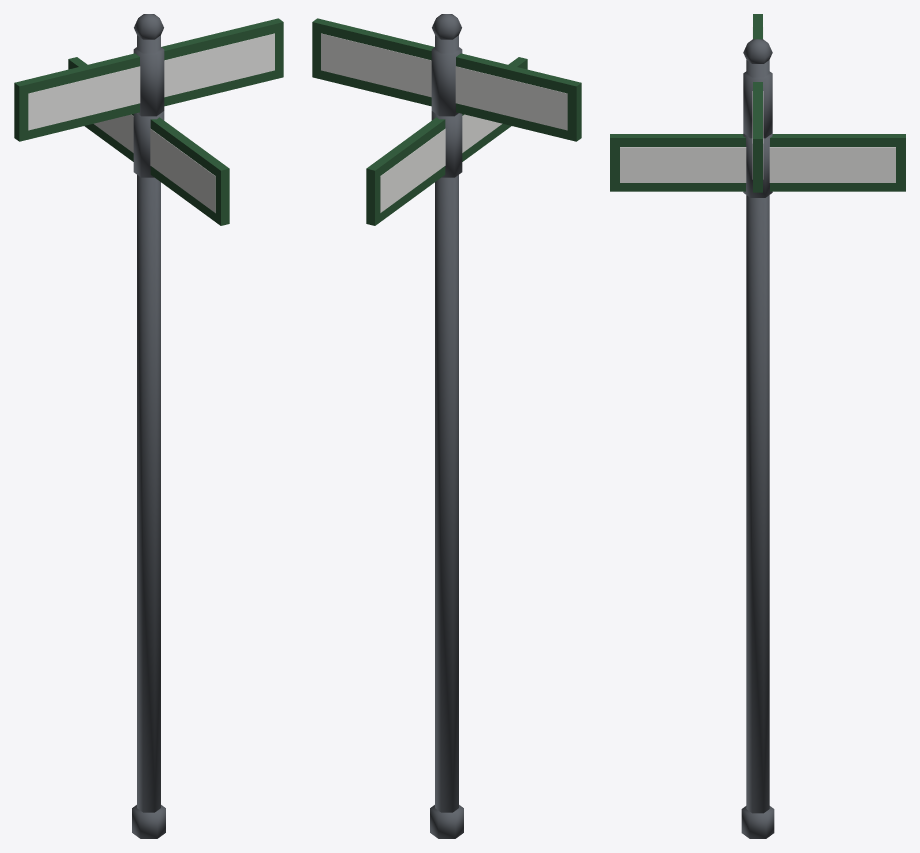
File: sign.far.glb
The picture shows the model from 3 angles, left to right: view 1: azimuth 30°, elevation 25°; view 2: azimuth 150°, elevation 25°; view 3: azimuth 270°, elevation 25°; orthographic projection. The views are drawn at different scales.
Visible parts, largest first — view 1: sign; view 2: sign; view 3: sign.
Part boxes in pixels (x1,y1,x2,y2): sign: [14, 14, 283, 838]; sign: [312, 14, 581, 838]; sign: [610, 14, 905, 838].
Bounding box in the file's own units: 0.9 × 2.66 × 0.9.
